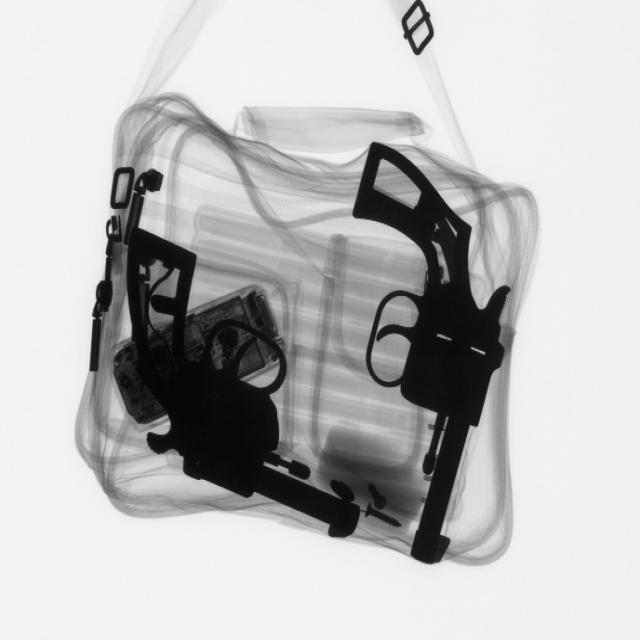GUN: (351, 136, 519, 570), (138, 219, 349, 547)
